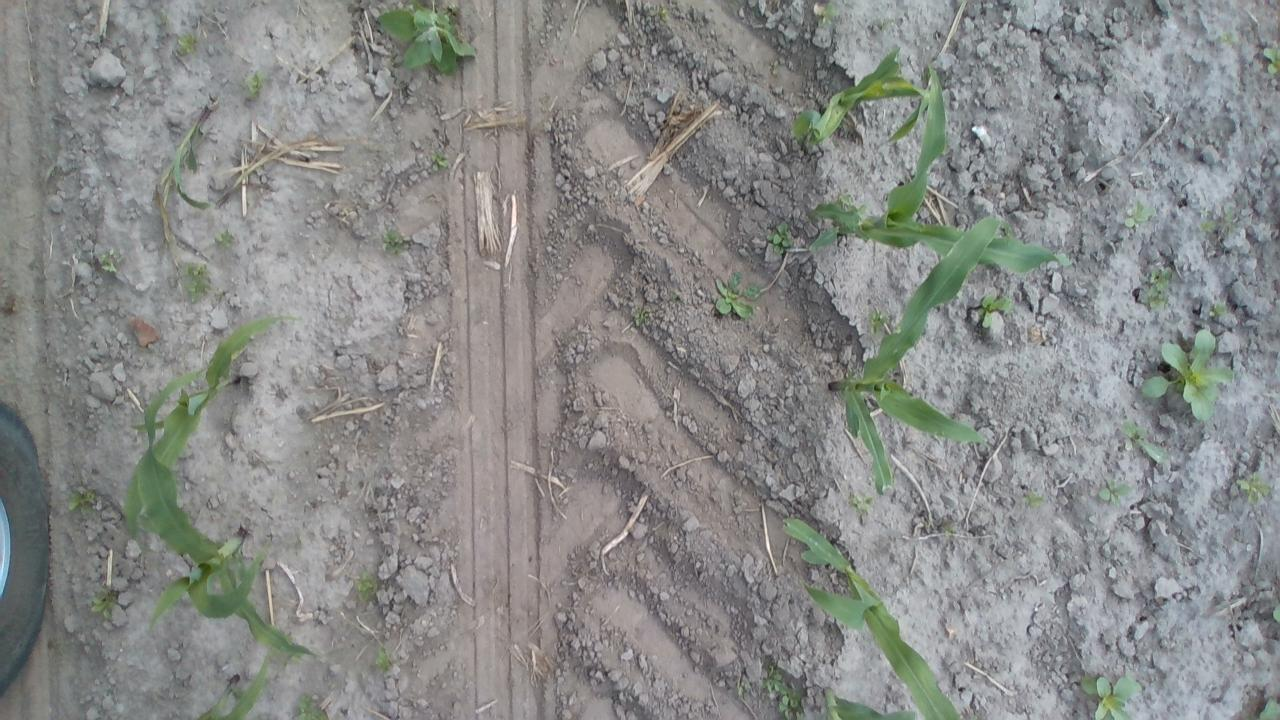Maize: (804, 62, 1066, 279), (824, 211, 1016, 494), (137, 361, 317, 660), (118, 316, 300, 544), (776, 511, 961, 720), (794, 43, 929, 150), (152, 94, 225, 268), (197, 645, 274, 720), (819, 685, 918, 720)
Weeds: (1140, 323, 1238, 422), (372, 0, 480, 79), (1077, 671, 1142, 720), (762, 658, 809, 720), (708, 271, 764, 319), (1118, 420, 1172, 468), (1137, 262, 1176, 317), (178, 259, 214, 304), (976, 291, 1014, 332), (1236, 466, 1272, 508), (1120, 198, 1158, 231), (290, 691, 331, 720), (764, 218, 796, 255), (90, 582, 118, 622), (1099, 474, 1132, 506), (351, 566, 379, 601), (68, 487, 99, 517), (849, 487, 878, 518), (95, 244, 121, 276), (381, 226, 407, 257), (176, 30, 200, 58), (246, 67, 266, 100), (868, 305, 888, 336), (817, 2, 838, 31), (1256, 695, 1280, 720), (648, 3, 672, 27), (1264, 40, 1280, 76), (631, 304, 652, 330), (428, 148, 450, 172), (374, 648, 394, 674), (1019, 490, 1044, 510), (1216, 202, 1236, 224), (212, 230, 236, 248), (1196, 210, 1214, 232), (736, 674, 751, 695), (1210, 298, 1226, 316), (1218, 30, 1236, 44), (1271, 601, 1280, 626), (668, 292, 684, 306), (880, 16, 894, 32)
